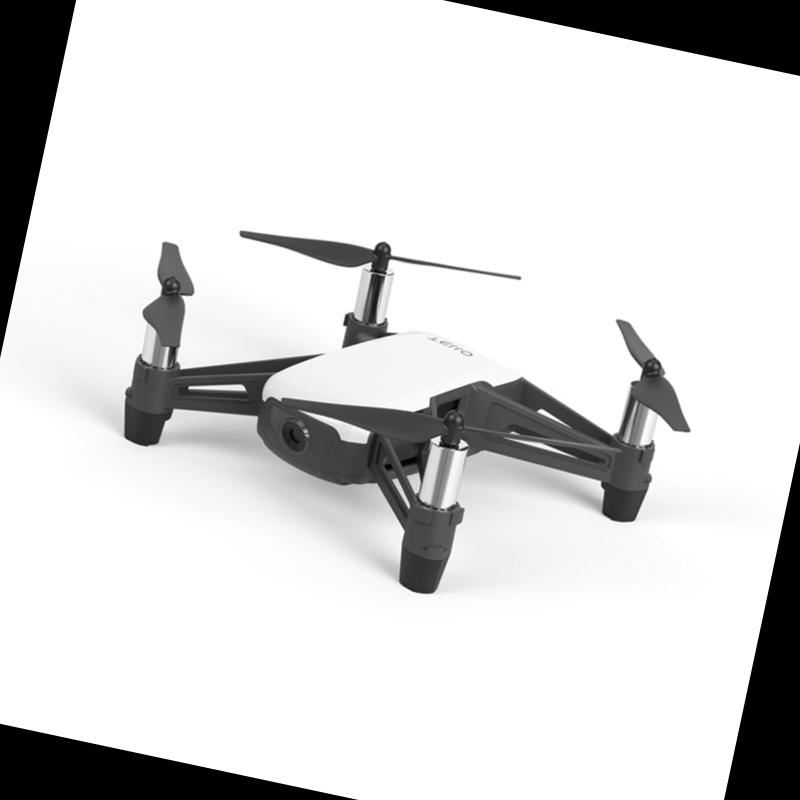drone: (61, 148, 732, 634)
